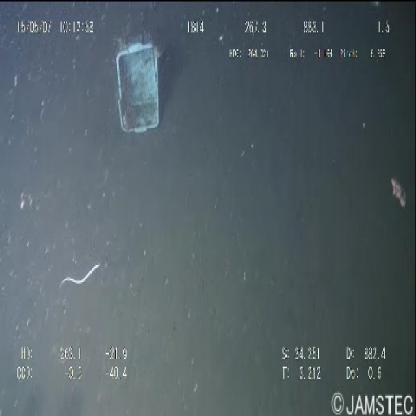Rác: (104, 37, 163, 136)
